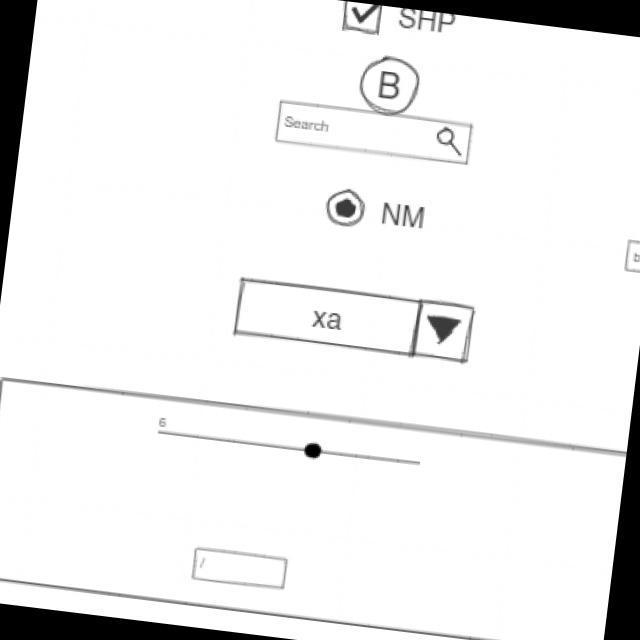button: (622, 234, 640, 275)
checkbox: (339, 2, 460, 48)
container: (1, 373, 627, 640)
icon-button: (355, 51, 425, 122)
input: (188, 543, 292, 595)
radio: (323, 186, 433, 239)
search: (273, 98, 478, 169)
select: (230, 273, 479, 370)
slider: (170, 422, 426, 476)
